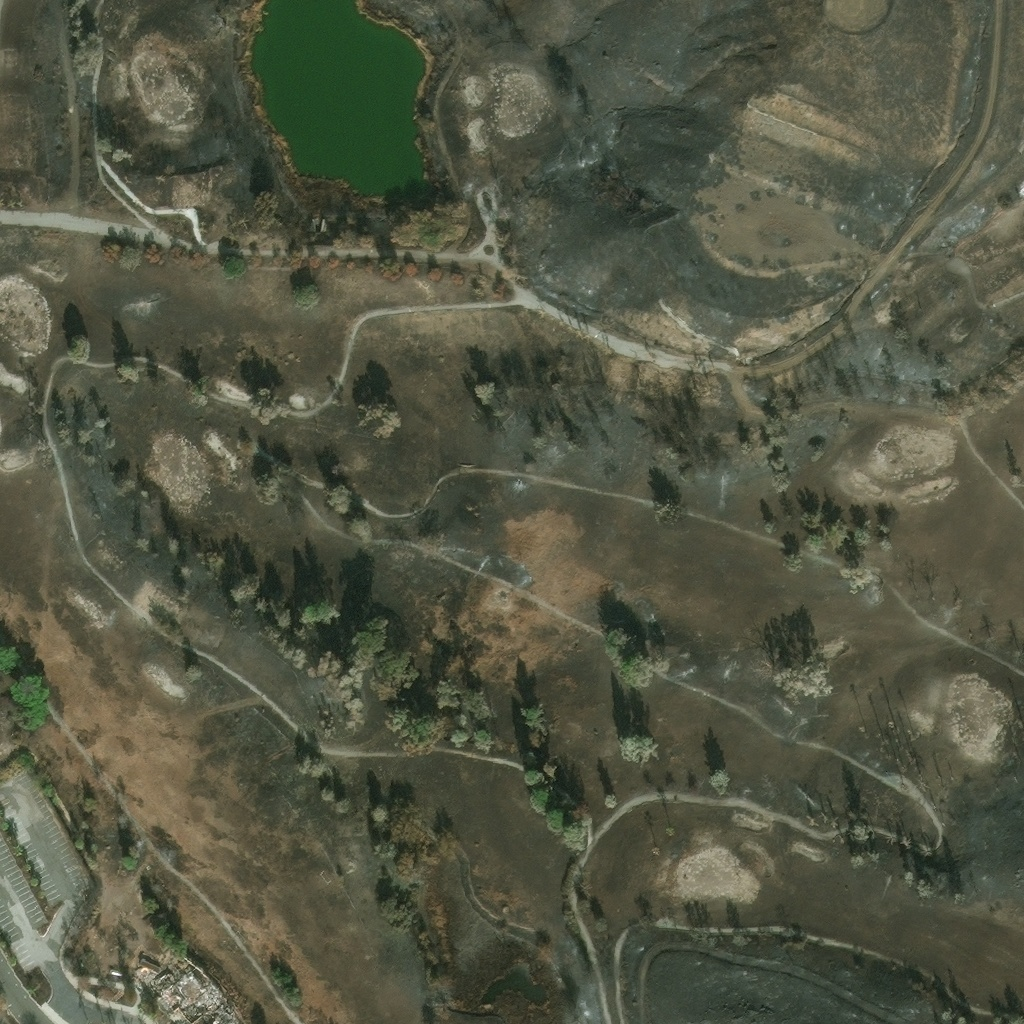3 destroyed: (148, 960, 239, 1023), (131, 953, 161, 986)
